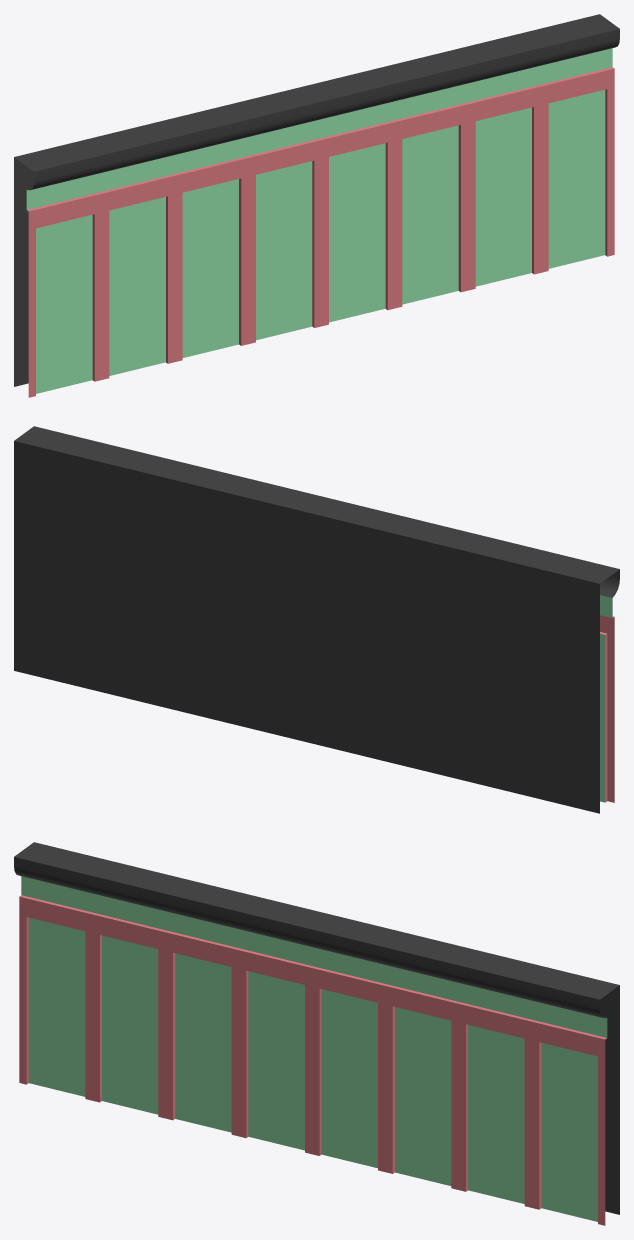
The model's file is ShipWall8m.fbx.
3 renders of one model, top to bottom at view 1: azimuth 30°, elevation 25°; view 2: azimuth 150°, elevation 25°; view 3: azimuth 330°, elevation 25°, orthographic.
Visible parts, largest first — view 1: Wall8m; view 2: Wall8m; view 3: Wall8m.
Boxes of the visible parts, box(x1,y1,x2,y2) form: Wall8m: box(14, 14, 619, 397); Wall8m: box(14, 426, 619, 813); Wall8m: box(14, 842, 619, 1225).
Bounding box in the file's own units: 8 × 3 × 0.475.
